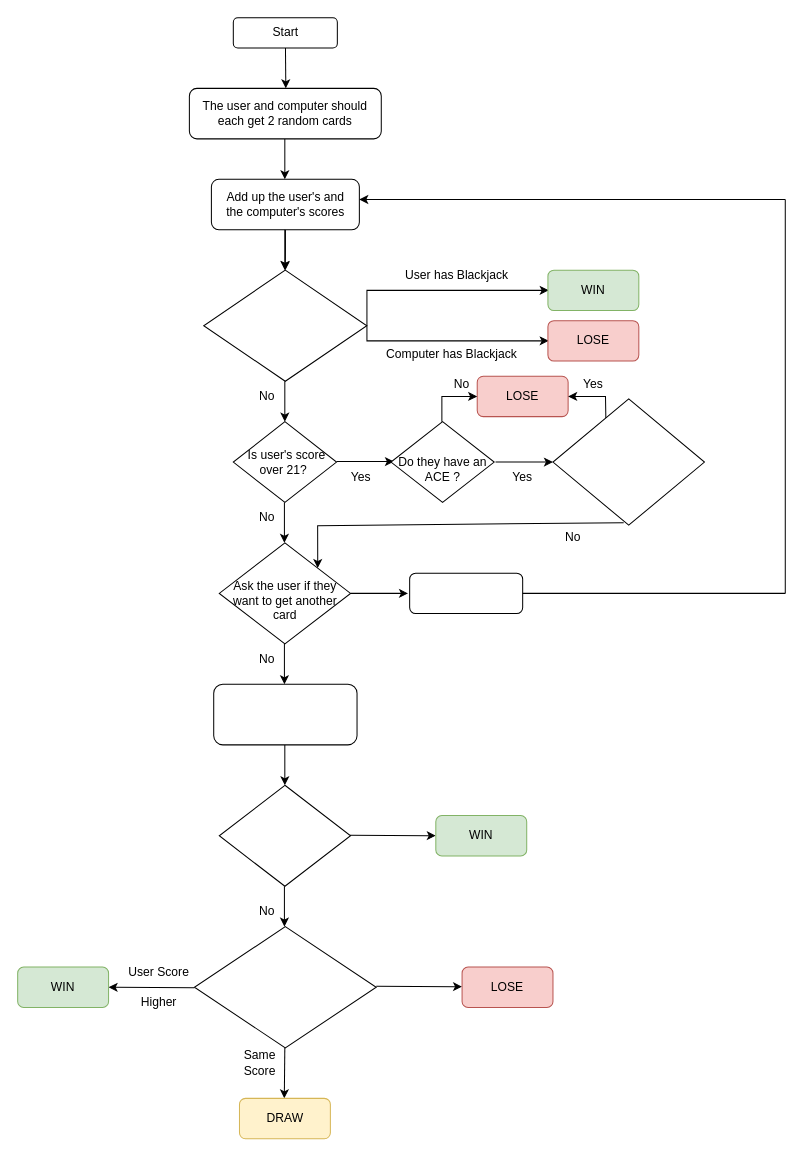
The diagram is 811 pixels wide and 1156 high, and some of its shapes have lost their labels. Each missing label, with the box of its shape:
Compare user score with computer score to see if user score is higher?: (193, 926, 376, 1048)
Computer plays, if score is less than 17, keep drawing cards.: (213, 683, 357, 745)
Does the user or computer have a blackjack? (ace + 10: (203, 269, 367, 381)
Draw Another Card: (409, 572, 523, 614)
Has the computer gone over 21: (218, 784, 351, 886)
If the ace counts as a 1 instead of 11, are they still over 21?: (552, 398, 704, 525)
